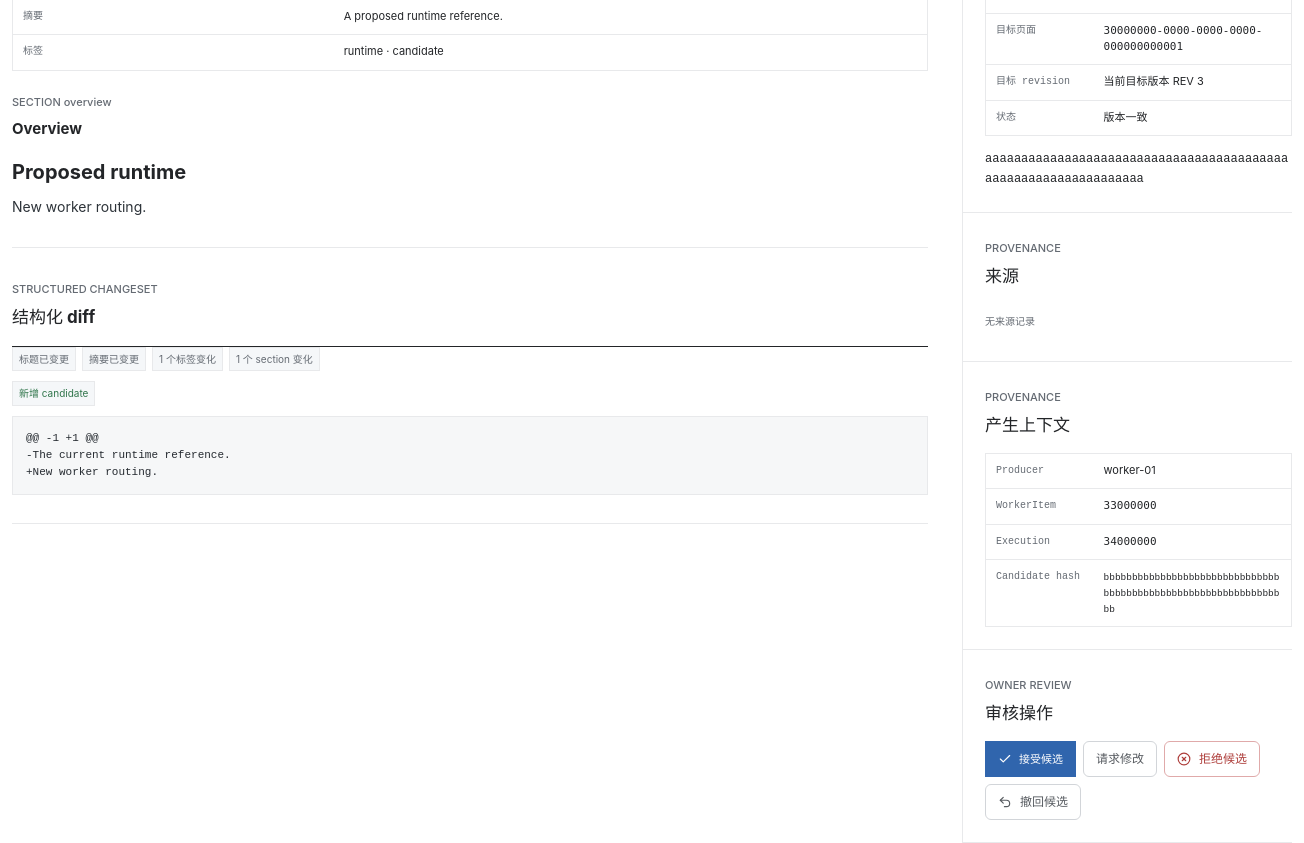
Test: KnowledgeCandidatePage › submits request changes with the observed candidate and target fence
(page scrolled)
Click the button "请求修改". click: (1120, 759)
box: 1083,741 -> 1157,777
(page scrolled)
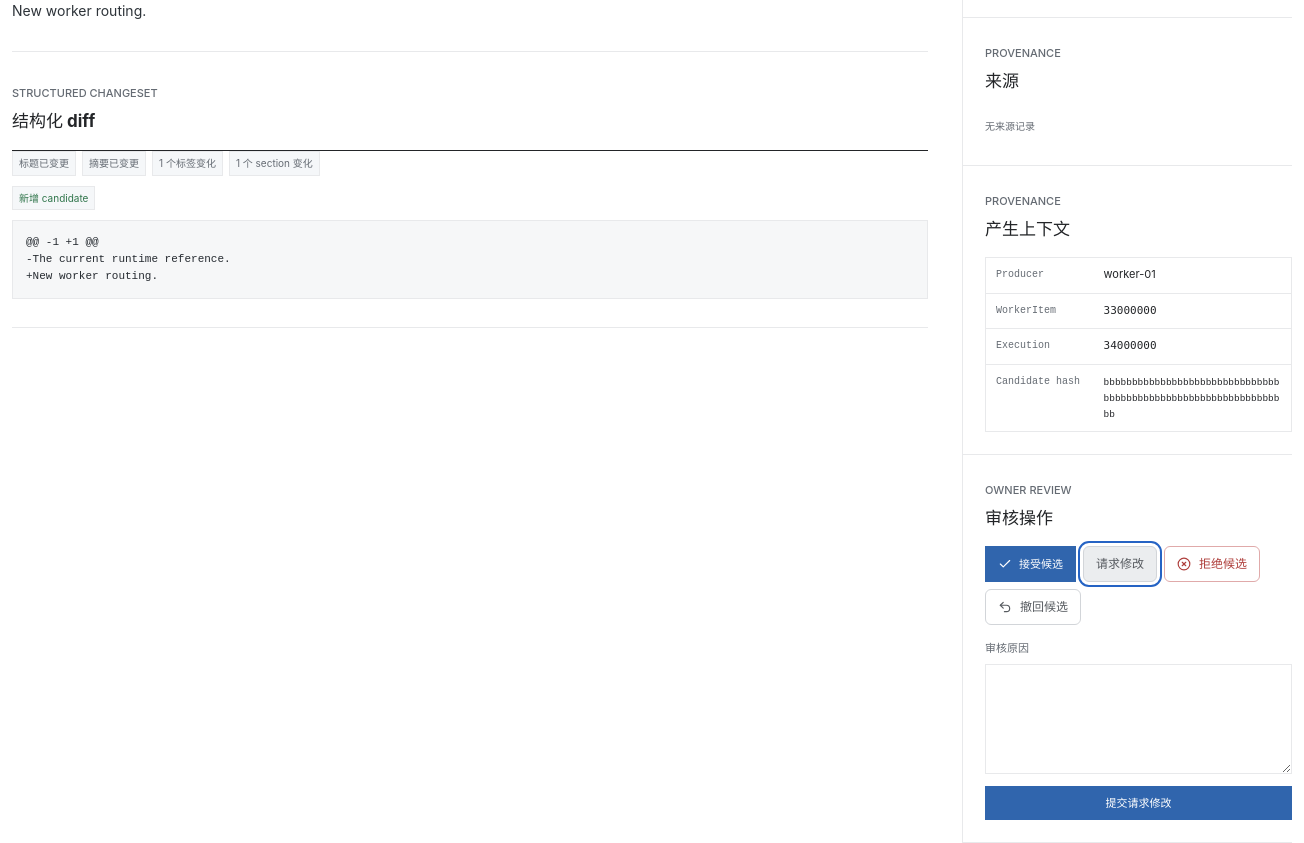
Type "补充 worker 路由说明" into the text box labelled "审核原因". click: (1138, 719)
box: 985,664 -> 1292,774
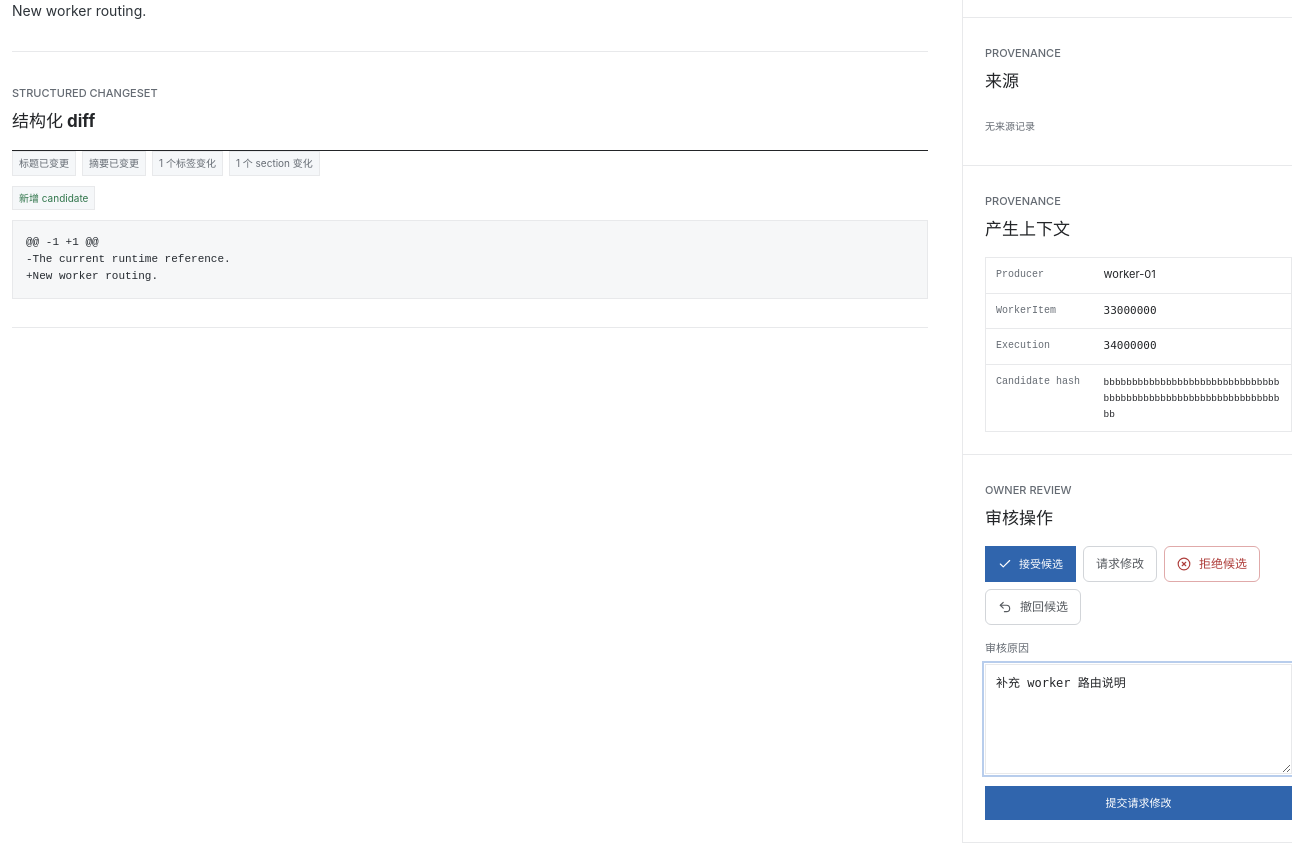
Click the button "提交请求修改". click: (1138, 803)
box: 985,786 -> 1292,820
(page scrolled)
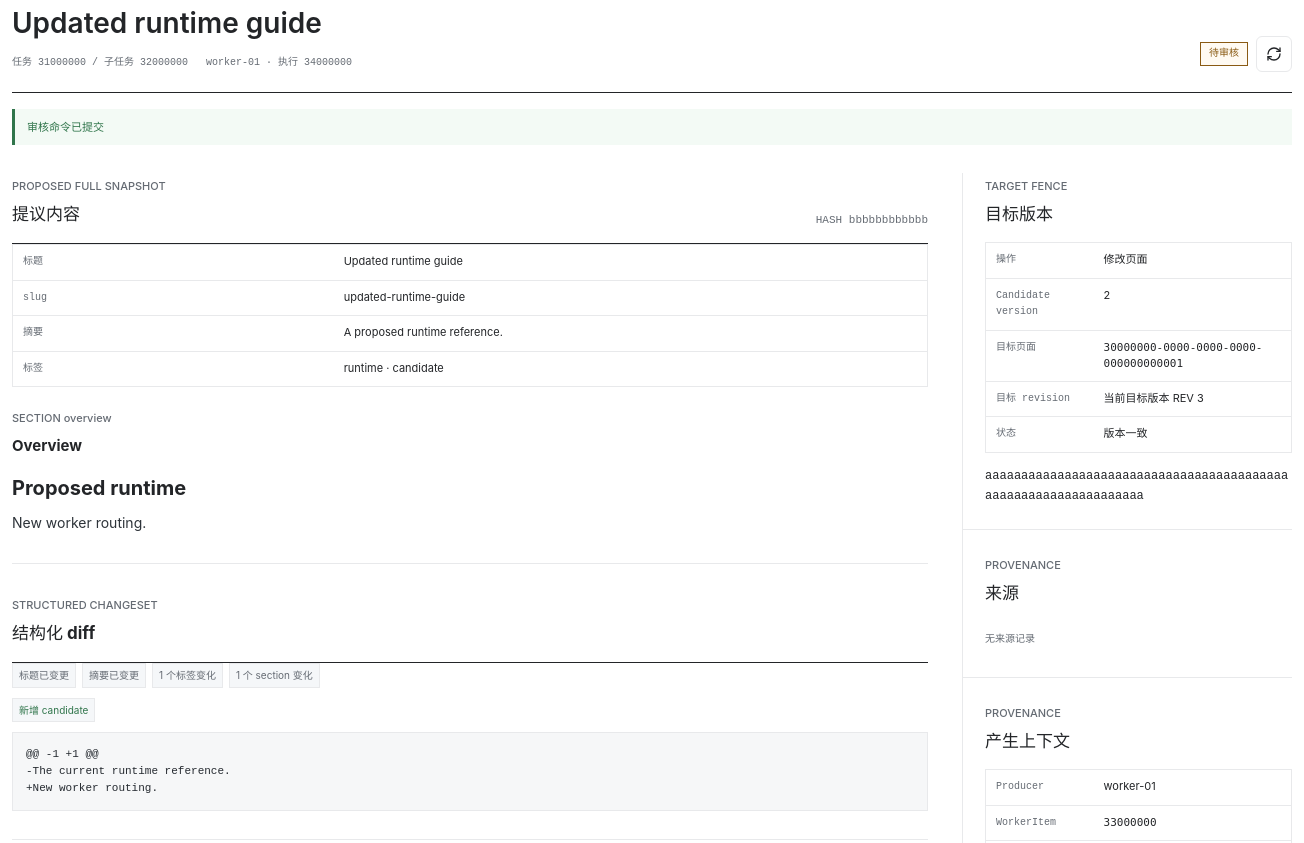
Check: the text "审核命令已提交" is shown, box 12,109 -> 1292,145
